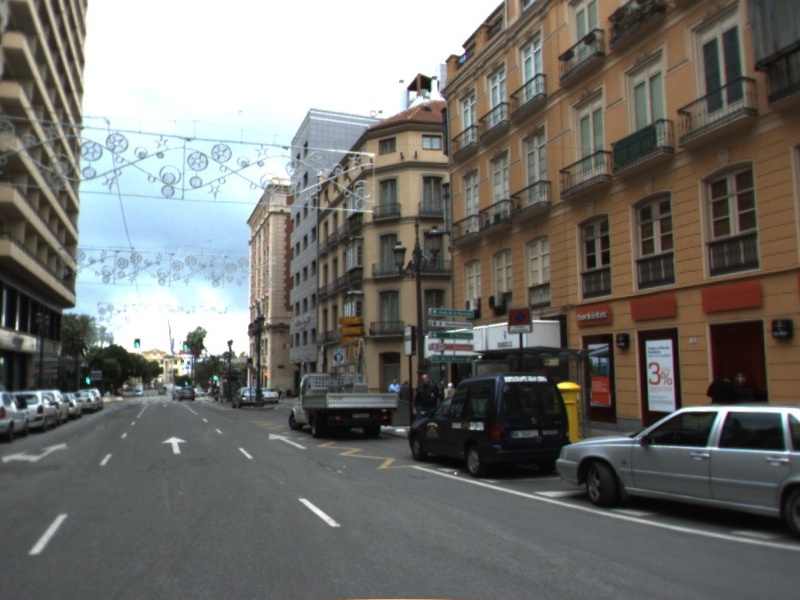STRAIGHT: (267, 431, 310, 451), (160, 434, 189, 456)
STRAIGHT_LEFT: (1, 441, 71, 465)
